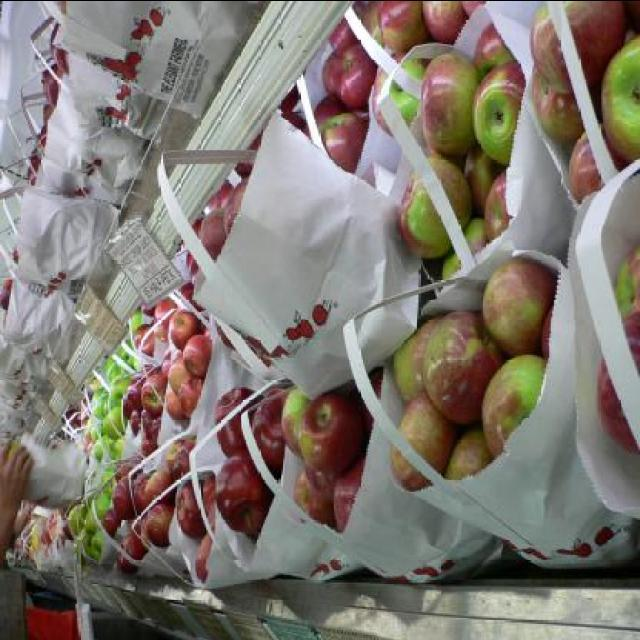Apple pie: (182, 2, 378, 286), (362, 1, 526, 284), (390, 284, 554, 492), (214, 362, 382, 546), (127, 281, 216, 584), (56, 312, 132, 572), (530, 1, 627, 93), (28, 22, 70, 185), (487, 253, 555, 353), (244, 300, 330, 368), (534, 58, 602, 144), (601, 311, 639, 458), (598, 31, 640, 160), (104, 6, 162, 82), (570, 118, 608, 204), (612, 242, 640, 322), (16, 508, 59, 560), (7, 369, 27, 411), (561, 536, 593, 559), (596, 520, 616, 544), (106, 106, 126, 125), (522, 544, 548, 558), (415, 562, 439, 575), (312, 560, 330, 574), (0, 286, 11, 308), (120, 83, 132, 97), (2, 276, 12, 292), (330, 558, 342, 570), (442, 560, 458, 568), (74, 183, 84, 194), (84, 166, 93, 177), (82, 183, 89, 194), (50, 278, 61, 284), (116, 92, 124, 100), (59, 268, 64, 280), (31, 348, 38, 354), (46, 287, 51, 293), (44, 294, 48, 298)
